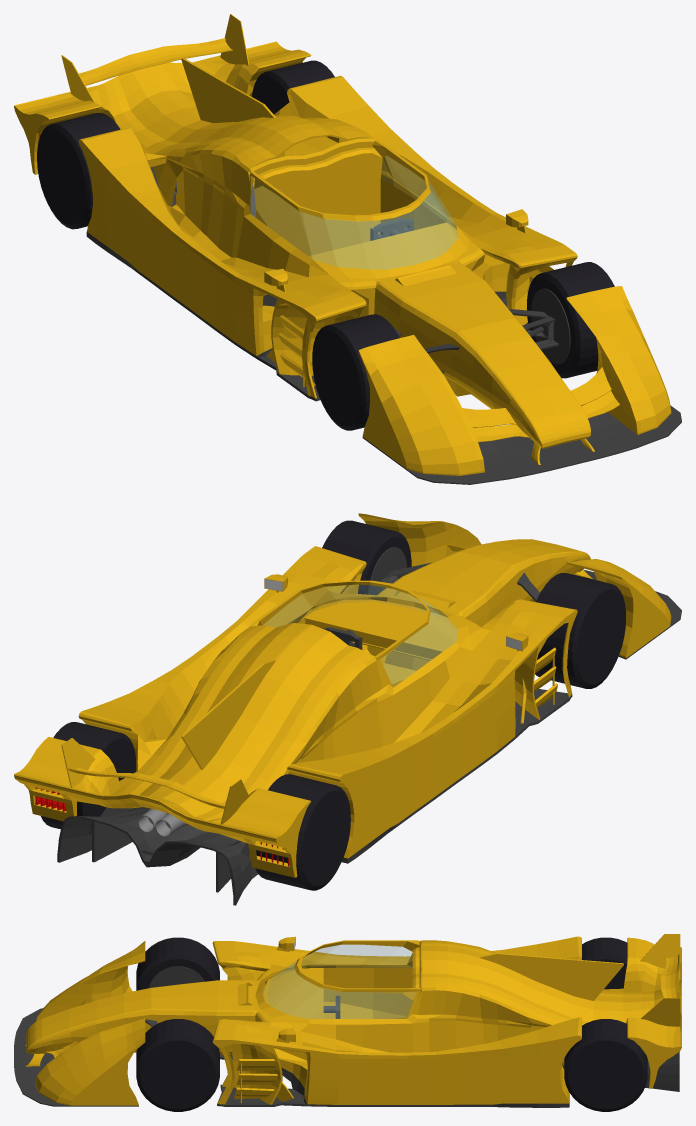
File: FormulaPrototype.glb
3 views of the same model, one above another, from view 1: azimuth 30°, elevation 25°; view 2: azimuth 150°, elevation 25°; view 3: azimuth 270°, elevation 25° (orthographic). The views are drawn at different scales.
Visible parts, largest first — view 1: BODY, WHEEL_R, WHEEL_STEERABLE_FR, WHEEL_STEERABLE_FL, AERO, REAR_WING, MIRROR; view 2: BODY, WHEEL_R, WHEEL_STEERABLE_FR, WHEEL_STEERABLE_FL, AERO, REAR_WING, EXAUSTE, MIRROR; view 3: BODY, WHEEL_R, WHEEL_STEERABLE_FL, WHEEL_STEERABLE_FR, REAR_WING, AERO, MIRROR.
Boxes of the visible parts, <box> form: BODY: <box>14,41,681,484</box>; WHEEL_R: <box>37,60,334,229</box>; WHEEL_STEERABLE_FR: <box>312,314,399,430</box>; WHEEL_STEERABLE_FL: <box>526,262,614,378</box>; AERO: <box>38,132,619,464</box>; REAR_WING: <box>61,14,251,102</box>; MIRROR: <box>264,209,528,291</box>; BODY: <box>14,513,681,905</box>; WHEEL_R: <box>41,722,350,890</box>; WHEEL_STEERABLE_FR: <box>535,573,625,688</box>; WHEEL_STEERABLE_FL: <box>322,520,411,595</box>; AERO: <box>35,544,596,892</box>; REAR_WING: <box>61,738,248,824</box>; EXAUSTE: <box>138,808,188,836</box>; MIRROR: <box>264,574,528,651</box>; BODY: <box>14,936,681,1107</box>; WHEEL_R: <box>564,937,647,1111</box>; WHEEL_STEERABLE_FL: <box>136,1019,219,1111</box>; WHEEL_STEERABLE_FR: <box>136,937,219,990</box>; REAR_WING: <box>640,934,680,1026</box>; AERO: <box>25,994,293,1102</box>; MIRROR: <box>276,936,295,1042</box>.
Bounding box in the file's own units: 2 × 1.04 × 5.62.
